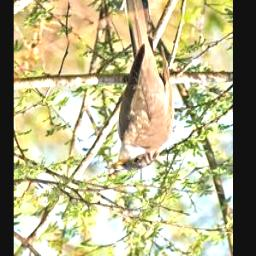Cuckoo: (105, 0, 176, 172)
